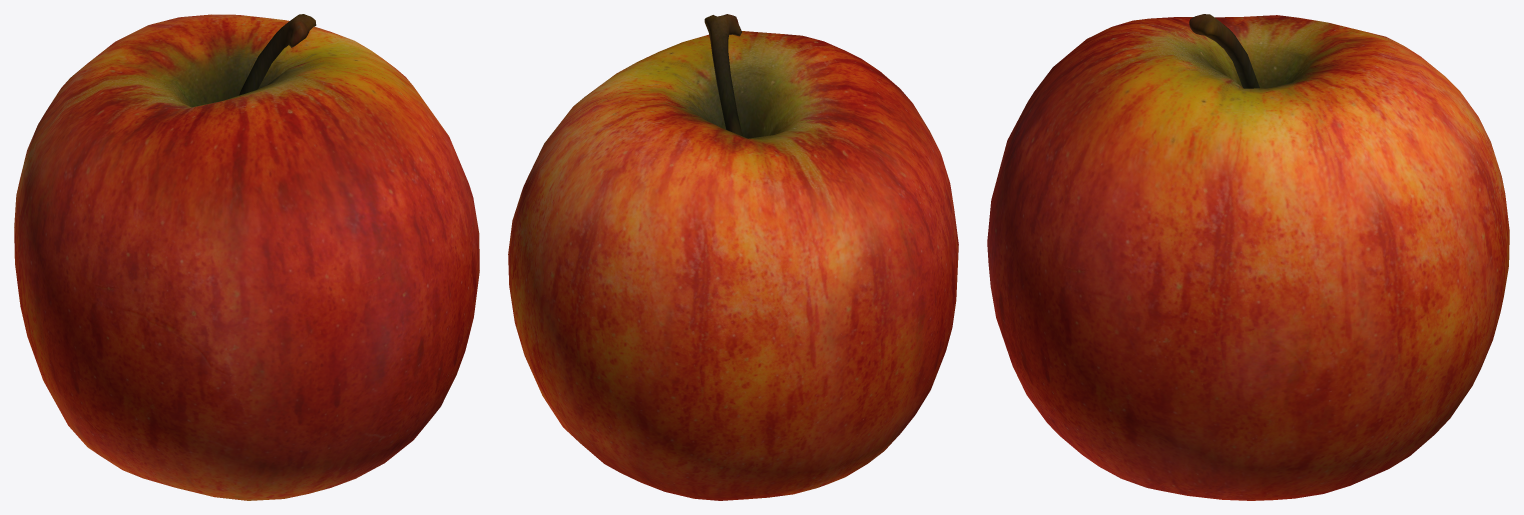
3 renders of one model, left to right at view 1: azimuth 30°, elevation 25°; view 2: azimuth 150°, elevation 25°; view 3: azimuth 270°, elevation 25°, orthographic. The views are drawn at different scales.
Visible parts, largest first — view 1: apple_low_obj; view 2: apple_low_obj; view 3: apple_low_obj.
Part boxes in pixels (bbox=[...]): apple_low_obj: bbox=[14, 14, 479, 500]; apple_low_obj: bbox=[508, 14, 958, 500]; apple_low_obj: bbox=[987, 14, 1509, 500].
Bounding box in the file's own units: 76.34 × 79.5 × 82.14.
Materials: 1 (1 with a texture image).
